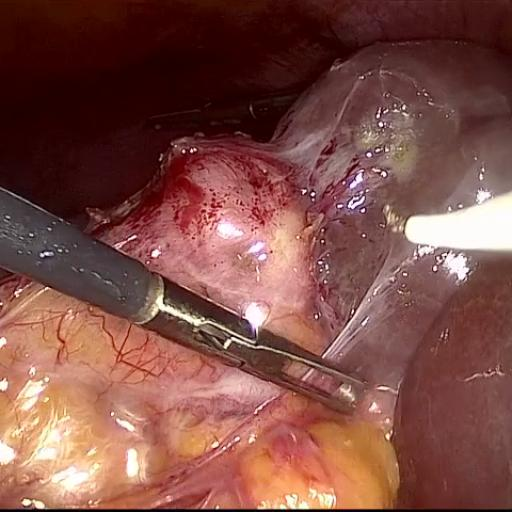Grasper: (123, 231, 389, 461)
Hook: (357, 175, 512, 286)
